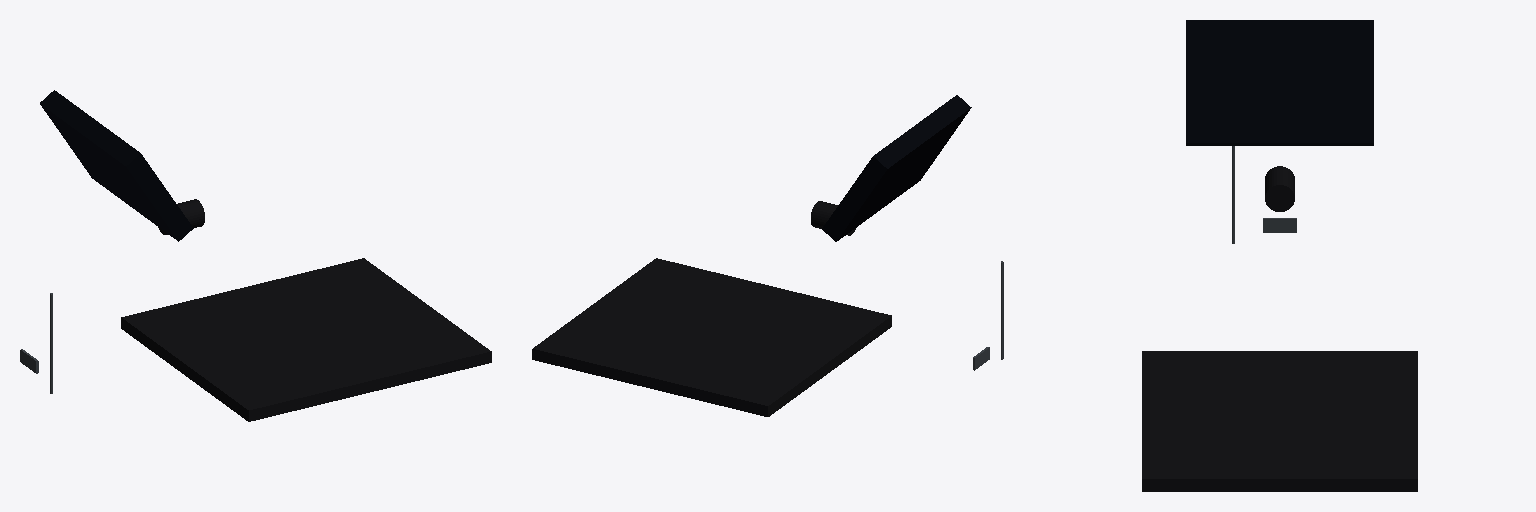
The robot description file, URDF, robot "sitdown_driving_arcade_cabinet":
<robot name="sitdown_driving_arcade_cabinet">
  <material name="shell_blue">
    <color rgba="0.09 0.21 0.59 1" />
    </material>
  <material name="trim_black">
    <color rgba="0.1 0.1 0.11 1" />
    </material>
  <material name="seat_black">
    <color rgba="0.11 0.11 0.12 1" />
    </material>
  <material name="wheel_black">
    <color rgba="0.07 0.07 0.08 1" />
    </material>
  <material name="steel">
    <color rgba="0.58 0.6 0.63 1" />
    </material>
  <material name="dark_steel">
    <color rgba="0.27 0.29 0.31 1" />
    </material>
  <material name="screen_glass">
    <color rgba="0.05 0.06 0.08 1" />
    </material>
  <link name="cabinet">
    <visual name="cabinet_shell">
      <geometry>
        <mesh filename="assets/meshes/arcade_cabinet_shell.obj" />
        </geometry>
      <material name="shell_blue">
        <color rgba="0.09 0.21 0.59 1" />
        </material>
      </visual>
    <visual name="floor_pan">
      <origin xyz="1.25 0 0.215" rpy="0 0 0" />
      <geometry>
        <box size="1.1 1 0.05" />
        </geometry>
      <material name="trim_black">
        <color rgba="0.1 0.1 0.11 1" />
        </material>
      </visual>
    <visual name="console_pod">
      <origin xyz="0.5 0 0.88" rpy="0 -0.3 0" />
      <geometry>
        <mesh filename="assets/meshes/arcade_console_pod.obj" />
        </geometry>
      <material name="trim_black">
        <color rgba="0.1 0.1 0.11 1" />
        </material>
      </visual>
    <visual name="column_shroud">
      <origin xyz="0.68 0 0.88" rpy="0 1.5708 0" />
      <geometry>
        <cylinder radius="0.055" length="0.16" />
        </geometry>
      <material name="trim_black">
        <color rgba="0.1 0.1 0.11 1" />
        </material>
      </visual>
    <visual name="screen_glass">
      <origin xyz="0.39 0 1.17" rpy="0 -0.56 0" />
      <geometry>
        <box size="0.08 0.68 0.45" />
        </geometry>
      <material name="screen_glass">
        <color rgba="0.05 0.06 0.08 1" />
        </material>
      </visual>
    <collision name="cabinet_shell">
      <geometry>
        <mesh filename="assets/meshes/arcade_cabinet_shell.obj" />
        </geometry>
      </collision>
    <collision name="floor_pan">
      <origin xyz="1.25 0 0.215" rpy="0 0 0" />
      <geometry>
        <box size="1.1 1 0.05" />
        </geometry>
      </collision>
    <collision name="console_pod">
      <origin xyz="0.5 0 0.88" rpy="0 -0.3 0" />
      <geometry>
        <mesh filename="assets/meshes/arcade_console_pod.obj" />
        </geometry>
      </collision>
    <collision name="column_shroud">
      <origin xyz="0.68 0 0.88" rpy="0 1.5708 0" />
      <geometry>
        <cylinder radius="0.055" length="0.16" />
        </geometry>
      </collision>
    <collision name="screen_glass">
      <origin xyz="0.39 0 1.17" rpy="0 -0.56 0" />
      <geometry>
        <box size="0.08 0.68 0.45" />
        </geometry>
      </collision>
    </link>
  <link name="seat">
    <visual name="seat_shell">
      <geometry>
        <mesh filename="assets/meshes/arcade_seat.obj" />
        </geometry>
      <material name="seat_black">
        <color rgba="0.11 0.11 0.12 1" />
        </material>
      </visual>
    <collision name="seat_shell">
      <geometry>
        <mesh filename="assets/meshes/arcade_seat.obj" />
        </geometry>
      </collision>
    </link>
  <link name="steering_wheel">
    <visual name="wheel_assembly">
      <geometry>
        <mesh filename="assets/meshes/arcade_steering_wheel.obj" />
        </geometry>
      <material name="wheel_black">
        <color rgba="0.07 0.07 0.08 1" />
        </material>
      </visual>
    <collision name="wheel_assembly">
      <geometry>
        <mesh filename="assets/meshes/arcade_steering_wheel.obj" />
        </geometry>
      </collision>
    </link>
  <link name="coin_door">
    <visual name="door_panel">
      <geometry>
        <mesh filename="assets/meshes/arcade_coin_door.obj" />
        </geometry>
      <material name="steel">
        <color rgba="0.58 0.6 0.63 1" />
        </material>
      </visual>
    <visual name="door_hinge_barrel">
      <origin xyz="-0.003 0 0" rpy="0 0 0" />
      <geometry>
        <cylinder radius="0.006" length="0.432" />
        </geometry>
      <material name="dark_steel">
        <color rgba="0.27 0.29 0.31 1" />
        </material>
      </visual>
    <collision name="door_panel">
      <geometry>
        <mesh filename="assets/meshes/arcade_coin_door.obj" />
        </geometry>
      </collision>
    <collision name="door_hinge_barrel">
      <origin xyz="-0.003 0 0" rpy="0 0 0" />
      <geometry>
        <cylinder radius="0.006" length="0.432" />
        </geometry>
      </collision>
    </link>
  <link name="coin_return">
    <visual name="flap_panel">
      <origin xyz="-0.005 0 -0.0275" rpy="0 0 0" />
      <geometry>
        <box size="0.01 0.125 0.055" />
        </geometry>
      <material name="dark_steel">
        <color rgba="0.27 0.29 0.31 1" />
        </material>
      </visual>
    <collision name="flap_panel">
      <origin xyz="-0.005 0 -0.0275" rpy="0 0 0" />
      <geometry>
        <box size="0.01 0.125 0.055" />
        </geometry>
      </collision>
    </link>
  <joint name="seat_mount" type="fixed">
    <origin xyz="1.14 0 0.24" rpy="0 0 0" />
    <parent link="cabinet" />
    <child link="seat" />
    </joint>
  <joint name="steering_wheel_spin" type="continuous">
    <origin xyz="0.76 0 0.88" rpy="0 0 0" />
    <parent link="cabinet" />
    <child link="steering_wheel" />
    <axis xyz="1 0 0" />
    <limit effort="12" velocity="10" />
    </joint>
  <joint name="coin_door_hinge" type="revolute">
    <origin xyz="0 -0.17 0.56" rpy="0 0 0" />
    <parent link="cabinet" />
    <child link="coin_door" />
    <axis xyz="0 0 1" />
    <limit effort="18" velocity="1.4" lower="0" upper="1.36136" />
    </joint>
  <joint name="coin_return_hinge" type="revolute">
    <origin xyz="0.0005 0.17 -0.1175" rpy="0 0 0" />
    <parent link="coin_door" />
    <child link="coin_return" />
    <axis xyz="0 1 0" />
    <limit effort="1" velocity="3" lower="0" upper="1.25664" />
    </joint>
  </robot>

--- What the picture shows (computed from the rendered views, not written in the file) ---
The picture shows the robot from 3 angles, left to right: view 1: azimuth 30°, elevation 25°; view 2: azimuth 150°, elevation 25°; view 3: azimuth 270°, elevation 25°; orthographic projection.
Model sitdown_driving_arcade_cabinet with 5 links and 4 joints (2 revolute, 1 continuous, 1 fixed), rooted at cabinet, posed all joints at 0.
Links seen in each view (by area): view 1: cabinet; view 2: cabinet; view 3: cabinet.
Boxes of the visible links, x1=… form: cabinet: x1=40, y1=90, x2=491, y2=421; cabinet: x1=532, y1=95, x2=971, y2=416; cabinet: x1=1142, y1=20, x2=1417, y2=491.
Bounding box of the posed robot: 1.81 × 1 × 1.19 m (x, y, z).
Meshes: 5 distinct files referenced, 0 mesh visuals loaded (none loaded); not drawn: 5 (reference not matched to a file when rendering).
